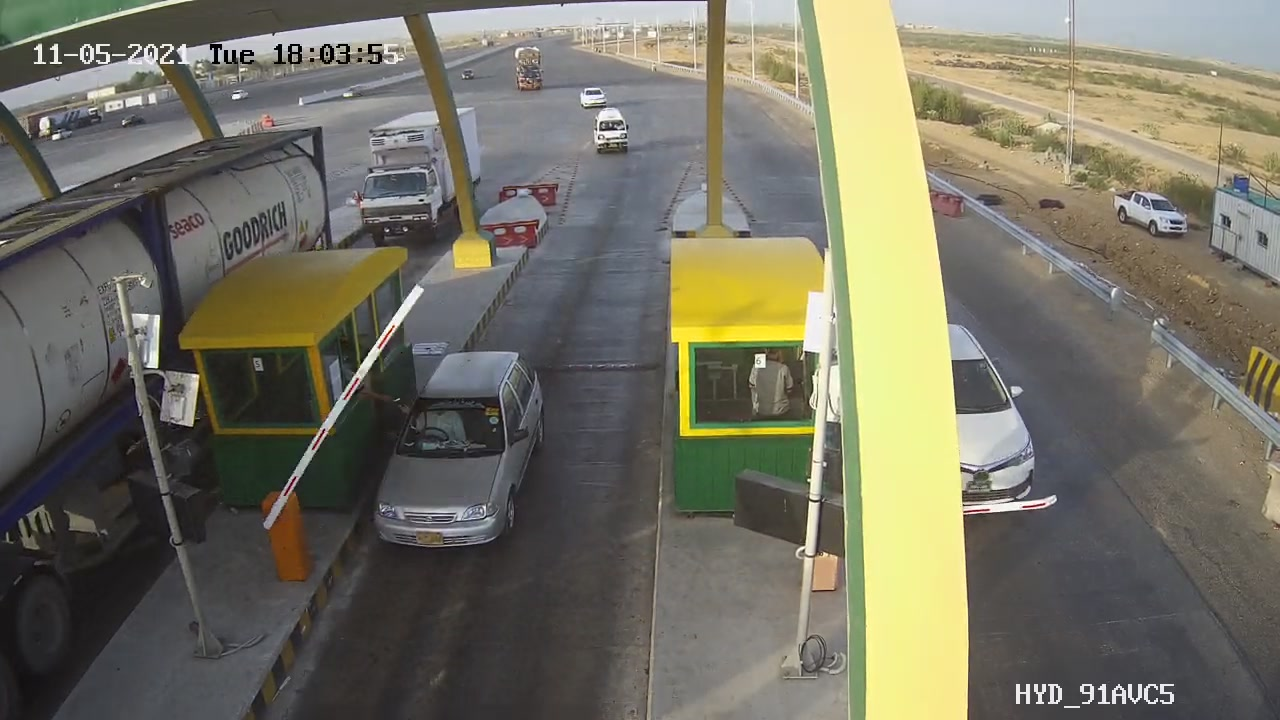F1: (356, 336, 572, 564)
